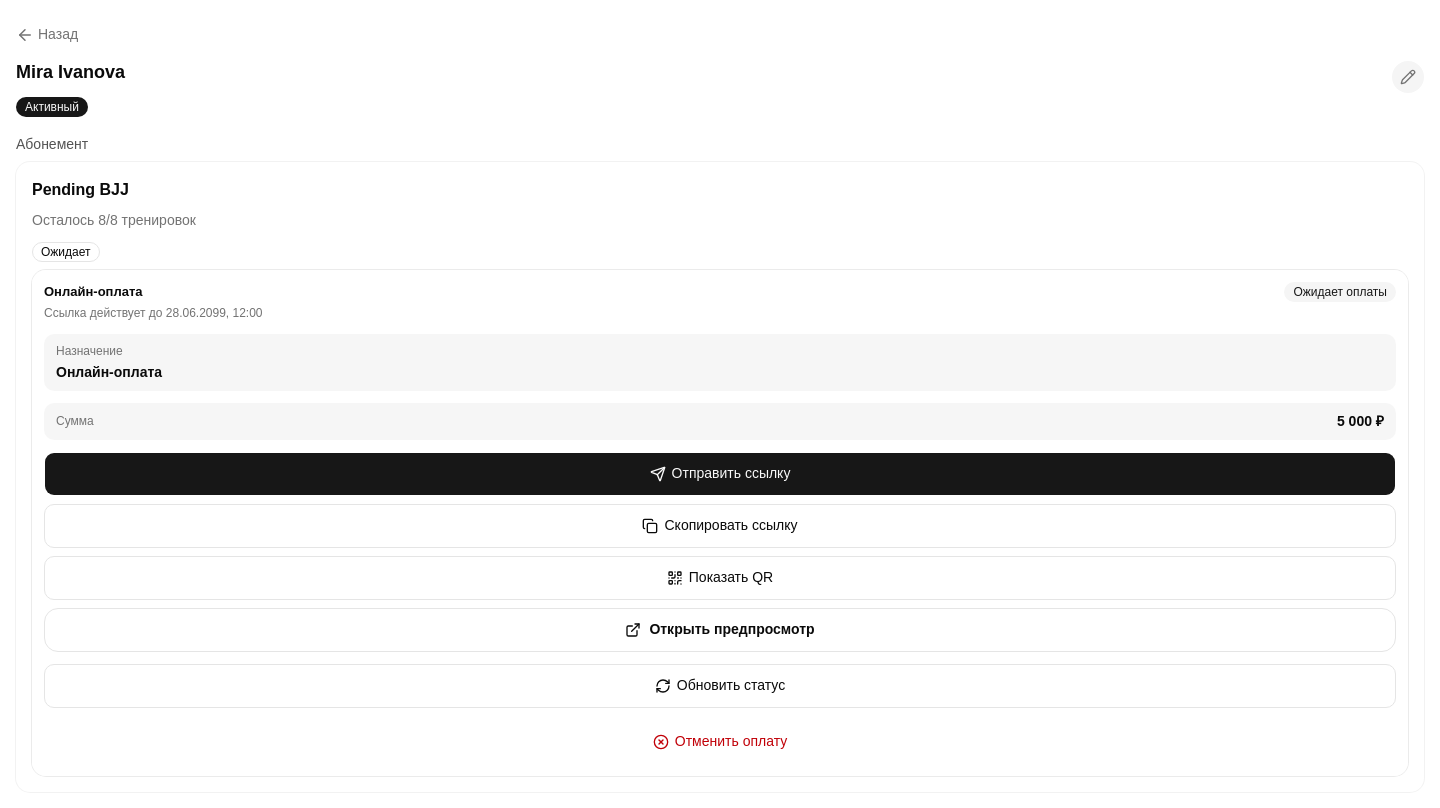
it: StudentDetail subscription payment recovery › retains the linked order when direct cancellation fails
Click the button "Отменить оплату". click: (720, 742)
box: [44, 720, 1396, 764]
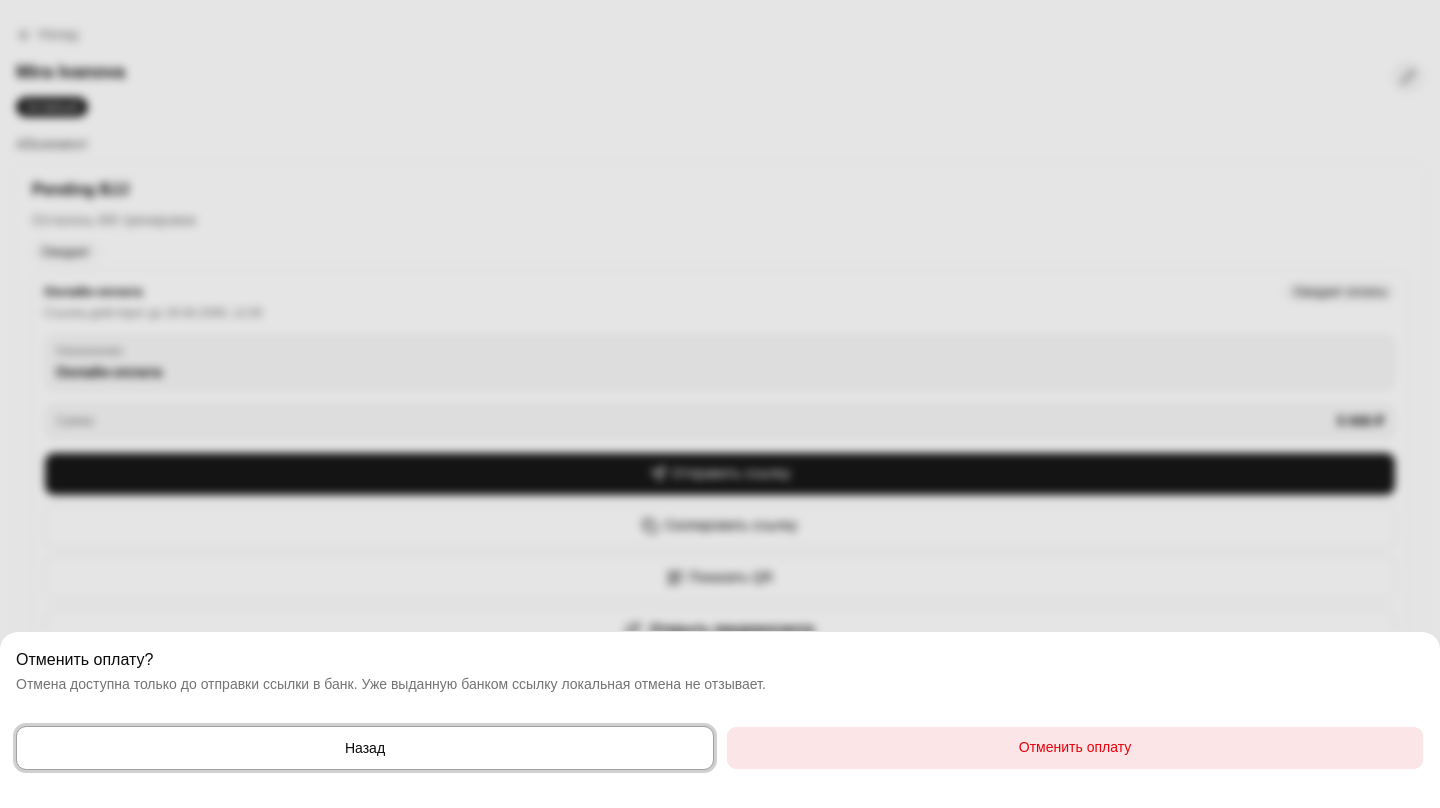
Click the button "Отменить оплату". click: (1075, 748)
box: [726, 726, 1424, 770]
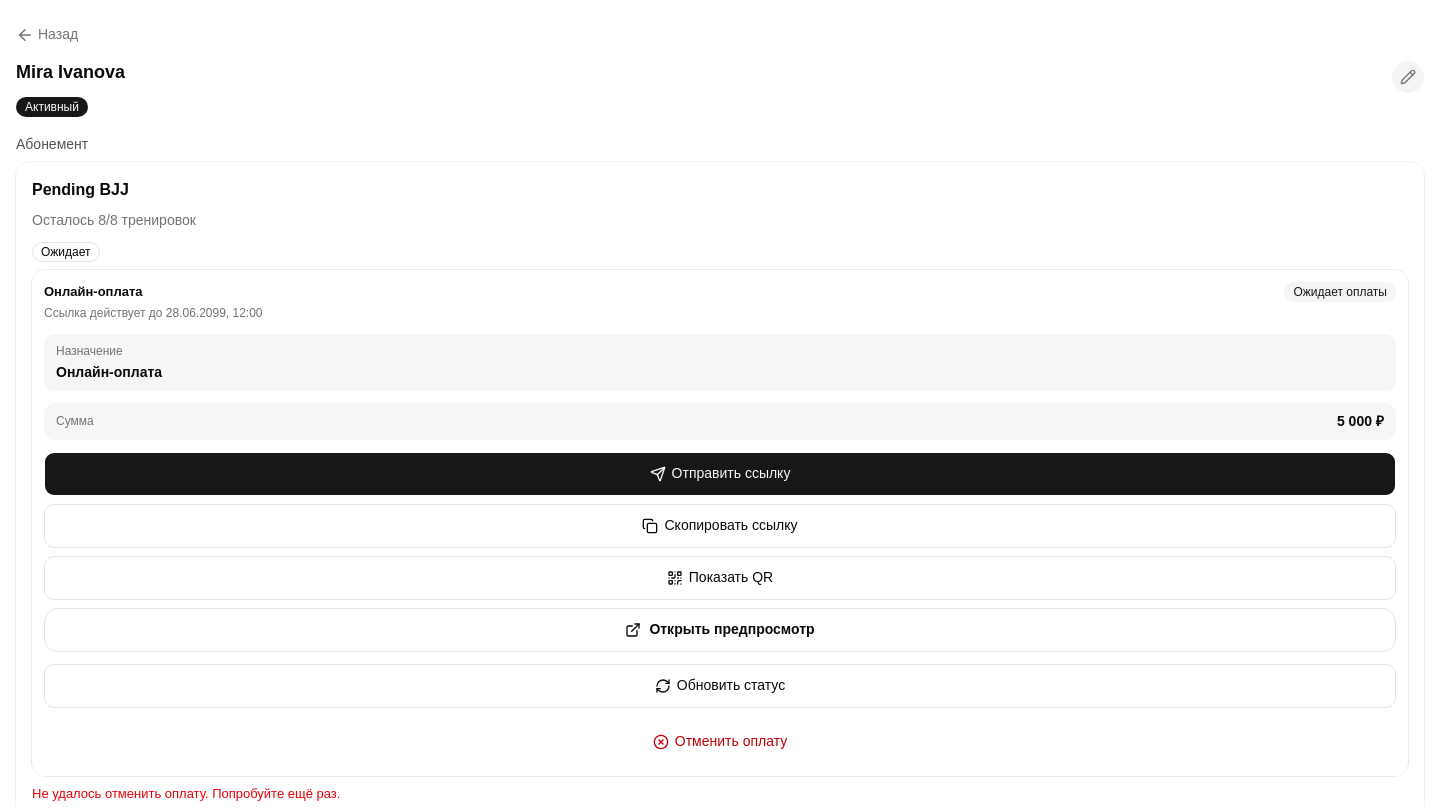
expect the element "Онлайн-оплата" is shown: met, box [32, 270, 1408, 776]
expect the message shows "Не удалось отменить оплату": met, box [32, 786, 340, 800]
